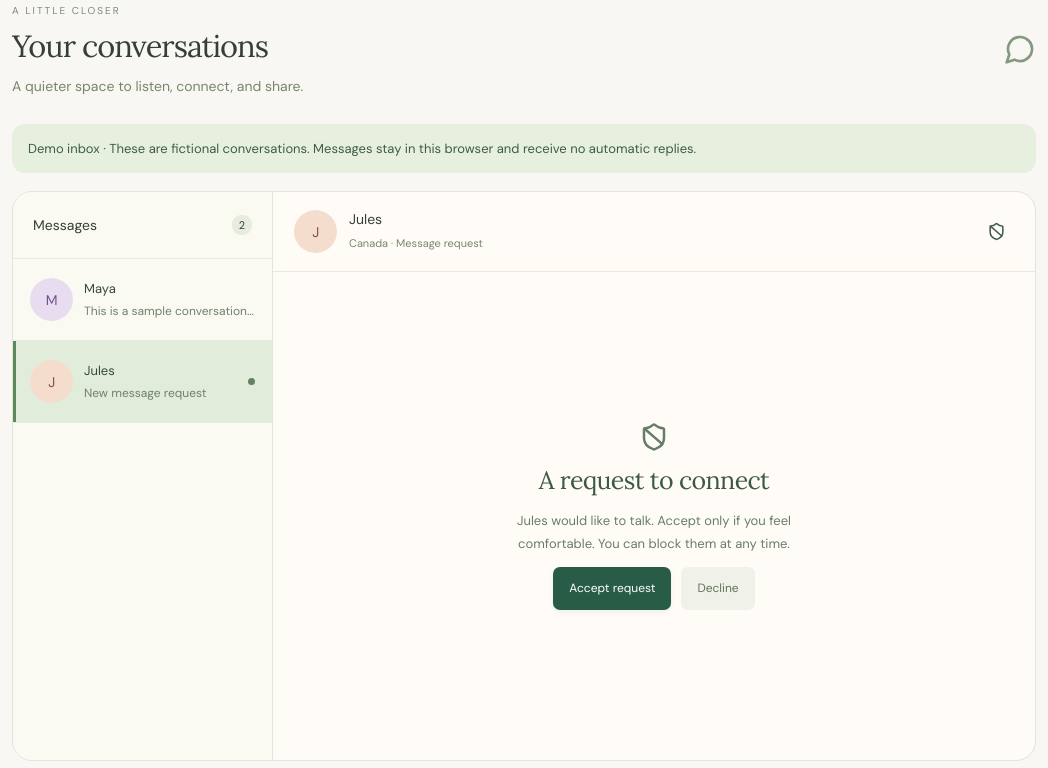
community UI regressions › requires incoming request acceptance before rendering a send form
Expected: the field labelled "Your message" is not shown
Click the button "Accept request". click: (612, 589)
box: top-left (553, 567), bottom-right (672, 610)
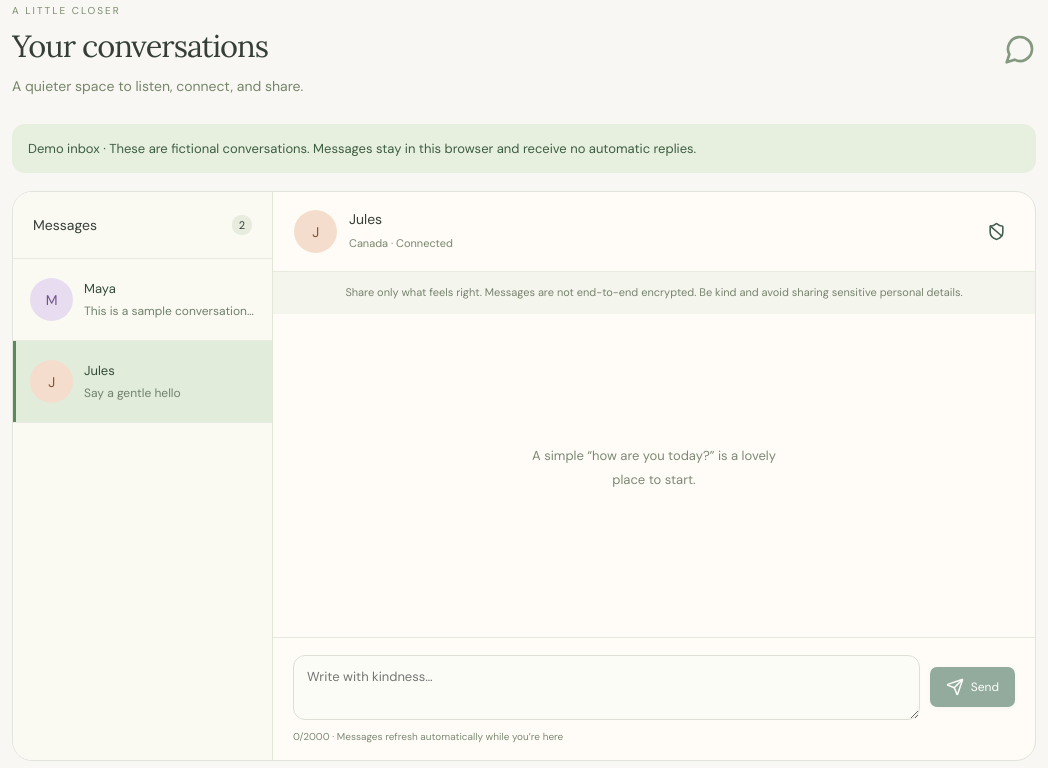
Type "Thank you for reaching out." into the text box named "Your message". click: (606, 687)
box: top-left (293, 655), bottom-right (920, 720)
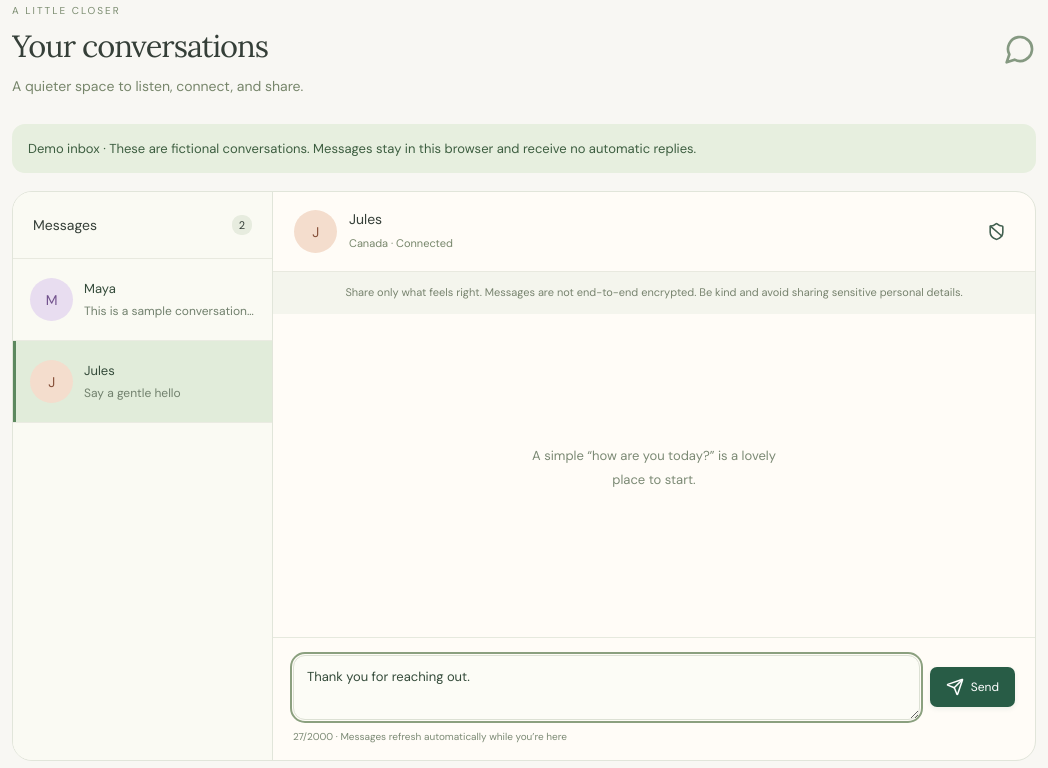
Click the button with aria-label "Send message". click: (972, 687)
box: top-left (930, 667), bottom-right (1015, 707)
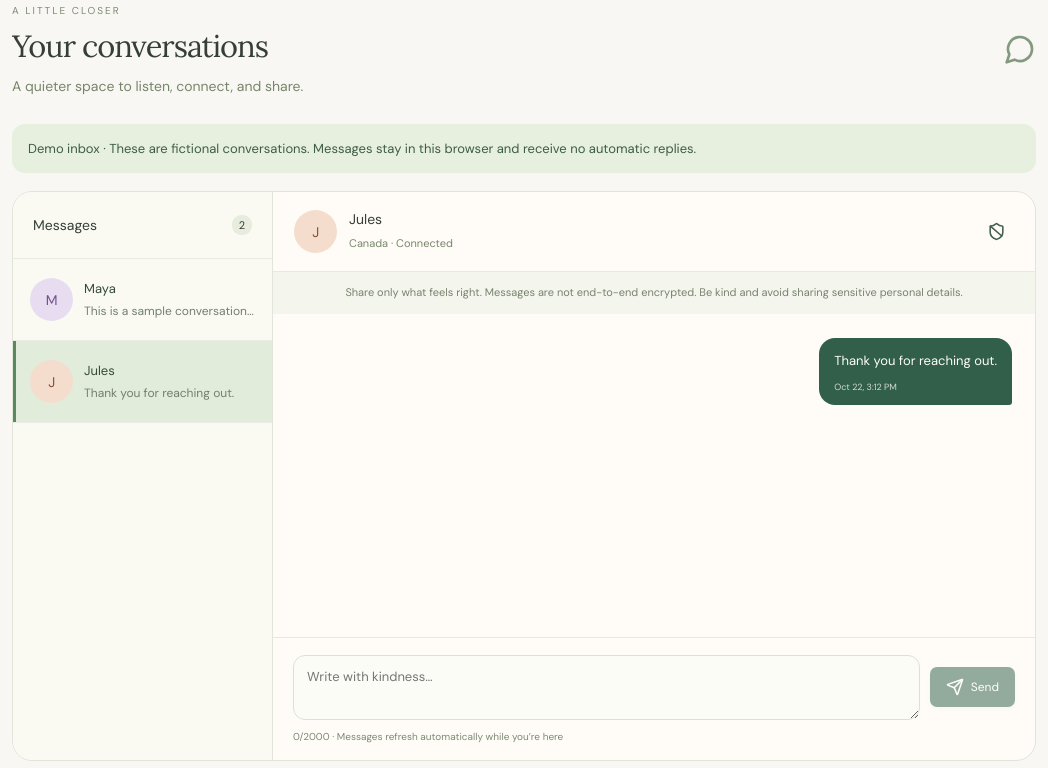
Expected: the 1st text "Thank you for reaching out." is shown, top-left (834, 350), bottom-right (997, 373)
